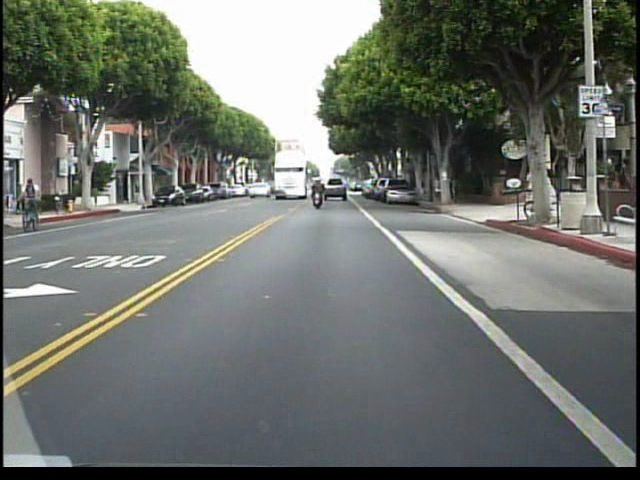person: (24, 176, 48, 228), (309, 174, 327, 214), (429, 172, 441, 204), (452, 172, 461, 201), (444, 172, 452, 199)
